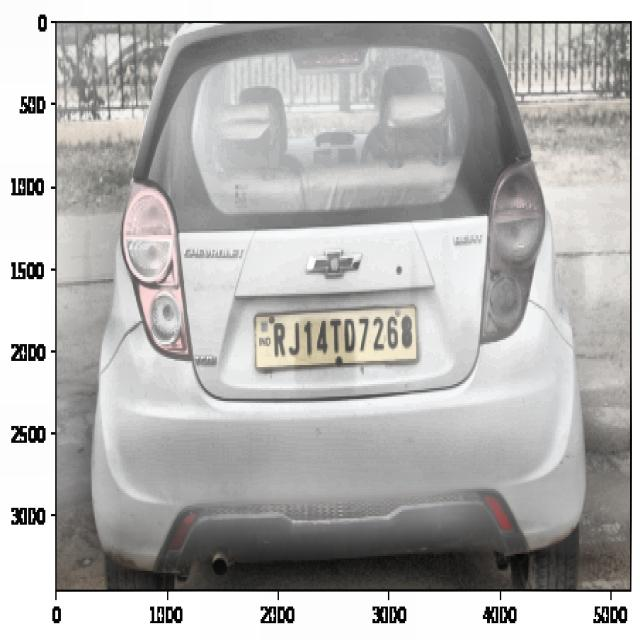license_plate: (267, 307, 416, 362)
